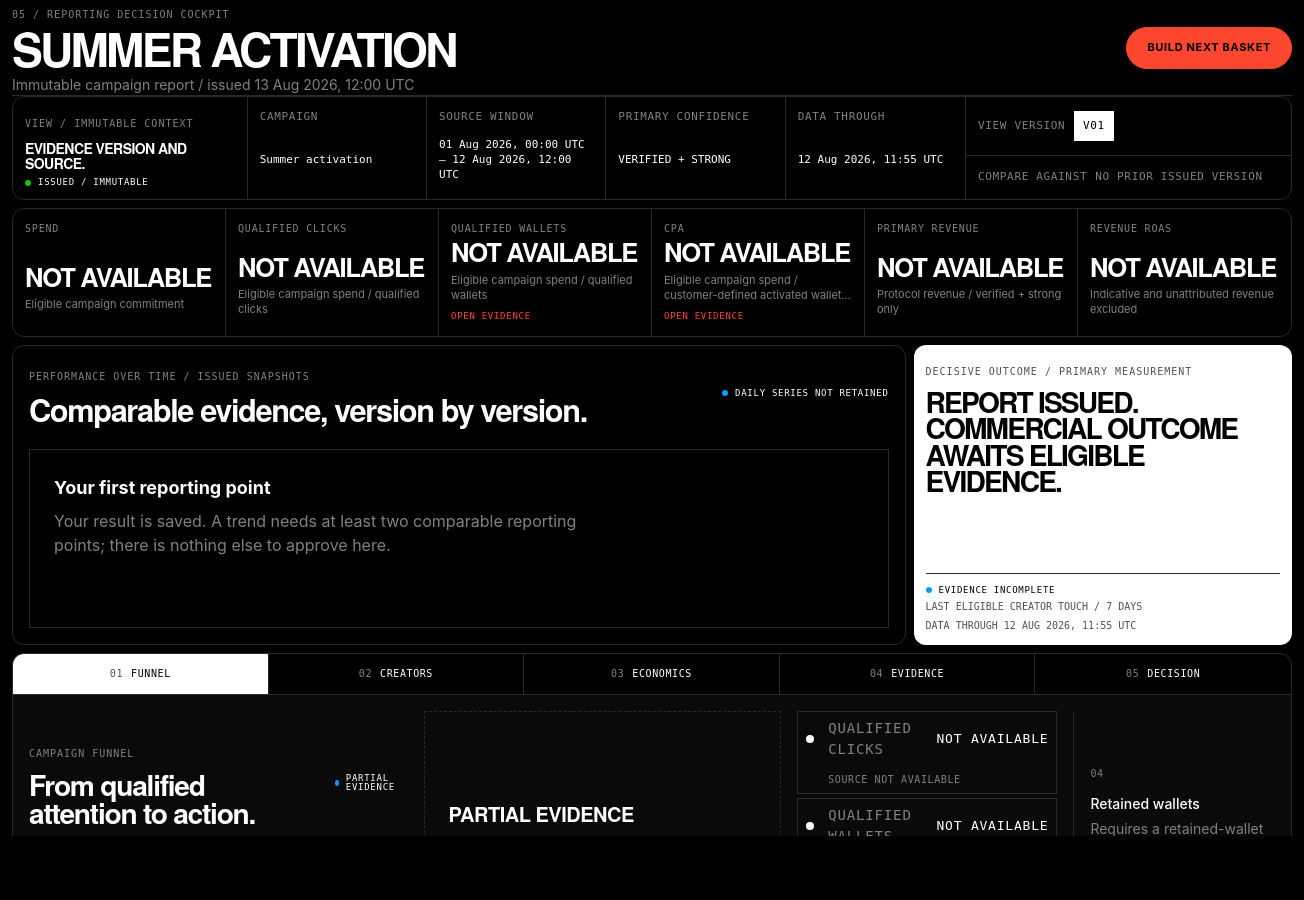
Test: performance report › keeps unavailable creator attribution unknown and gives no delivery verdict
Click the tab "02 Creators". click: (396, 674)
box: [269,654,524,694]
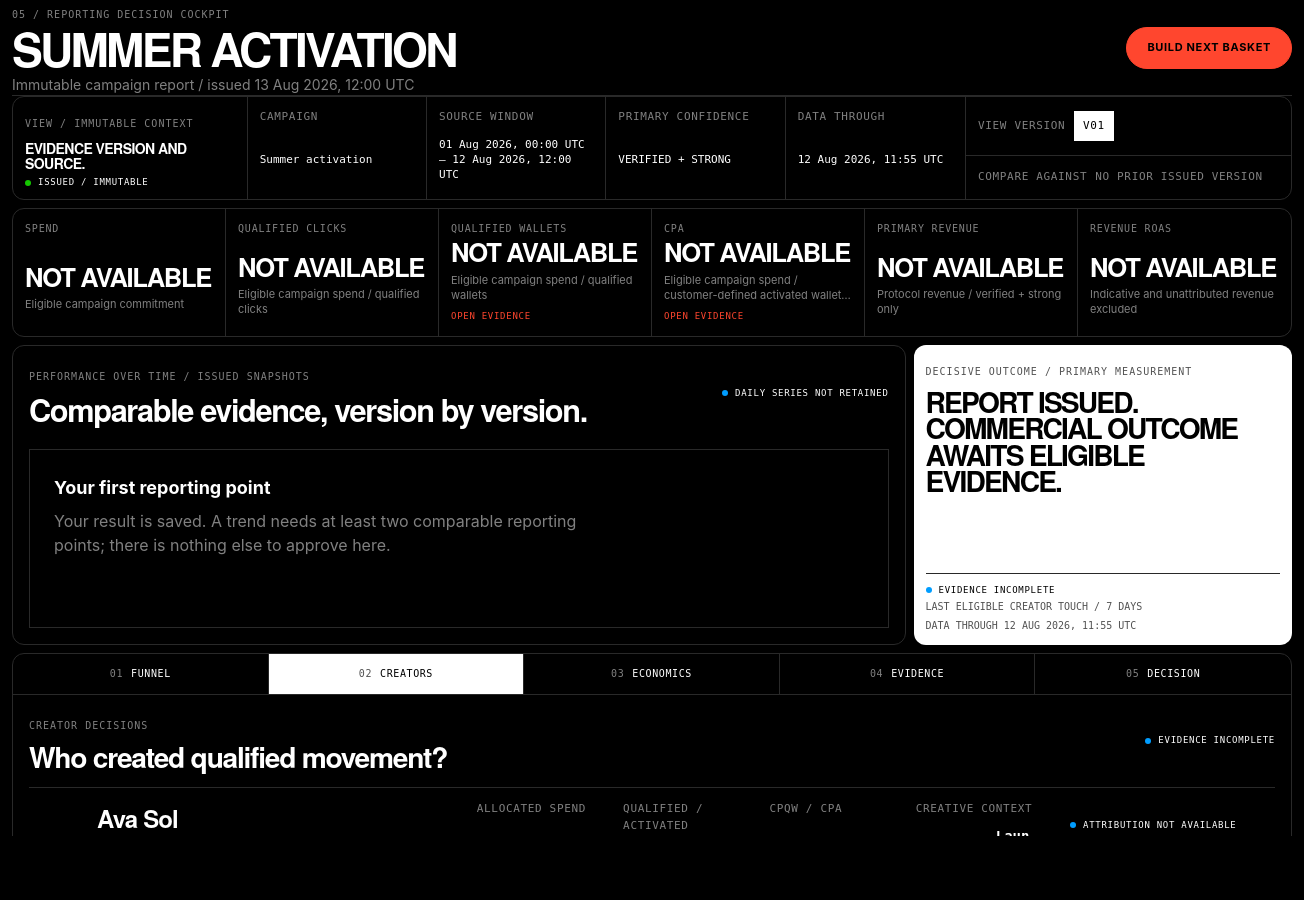
Expected: the text "ATTRIBUTION NOT AVAILABLE" is shown, [1070,820,1236,830]
